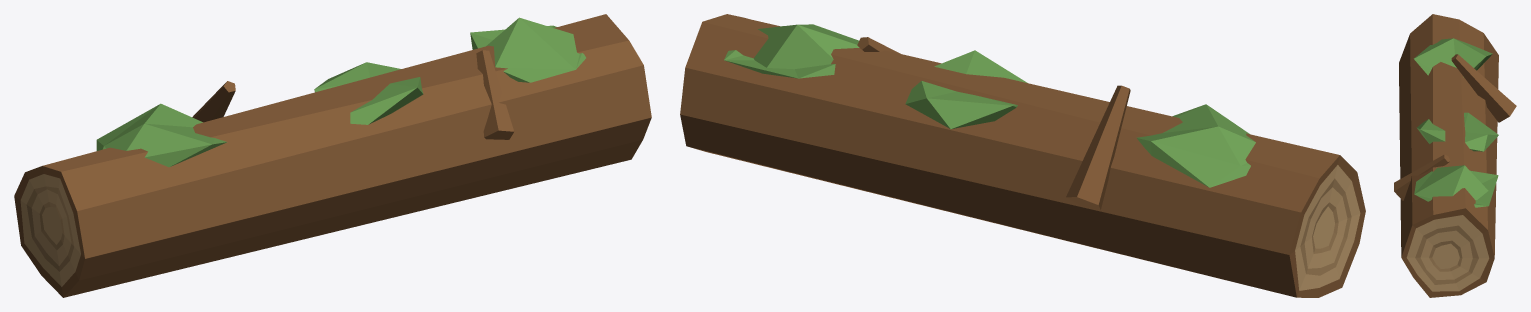
Rendered from sm_env_forest_fallen_log.glb.
3 renders of one model, left to right at view 1: azimuth 30°, elevation 25°; view 2: azimuth 150°, elevation 25°; view 3: azimuth 270°, elevation 25°, orthographic. The views are drawn at different scales.
Visible parts, largest first — view 1: FallenLog, Moss.002, Moss, Moss.001, LogStub.001, LogStub; view 2: FallenLog, Moss, Moss.002, Moss.001, LogStub; view 3: FallenLog, Moss.002, Moss, LogStub, Moss.001, LogStub.001.
Boxes of the visible parts, x1,y1,x2,y2 form: FallenLog: (14, 14, 651, 297); Moss.002: (470, 17, 585, 82); Moss: (96, 103, 227, 167); Moss.001: (314, 62, 423, 124); LogStub.001: (476, 50, 514, 139); LogStub: (192, 81, 235, 122); FallenLog: (680, 14, 1365, 297); Moss: (1136, 104, 1255, 187); Moss.002: (724, 24, 859, 78); Moss.001: (905, 50, 1027, 129); LogStub: (1066, 85, 1130, 210); FallenLog: (1399, 14, 1498, 297); Moss.002: (1414, 165, 1498, 207); Moss: (1414, 38, 1492, 77); LogStub: (1451, 54, 1516, 122); Moss.001: (1417, 112, 1498, 151); LogStub.001: (1394, 154, 1450, 200).
Bounding box in the file's own units: 2.85 × 0.7557 × 0.7552.
